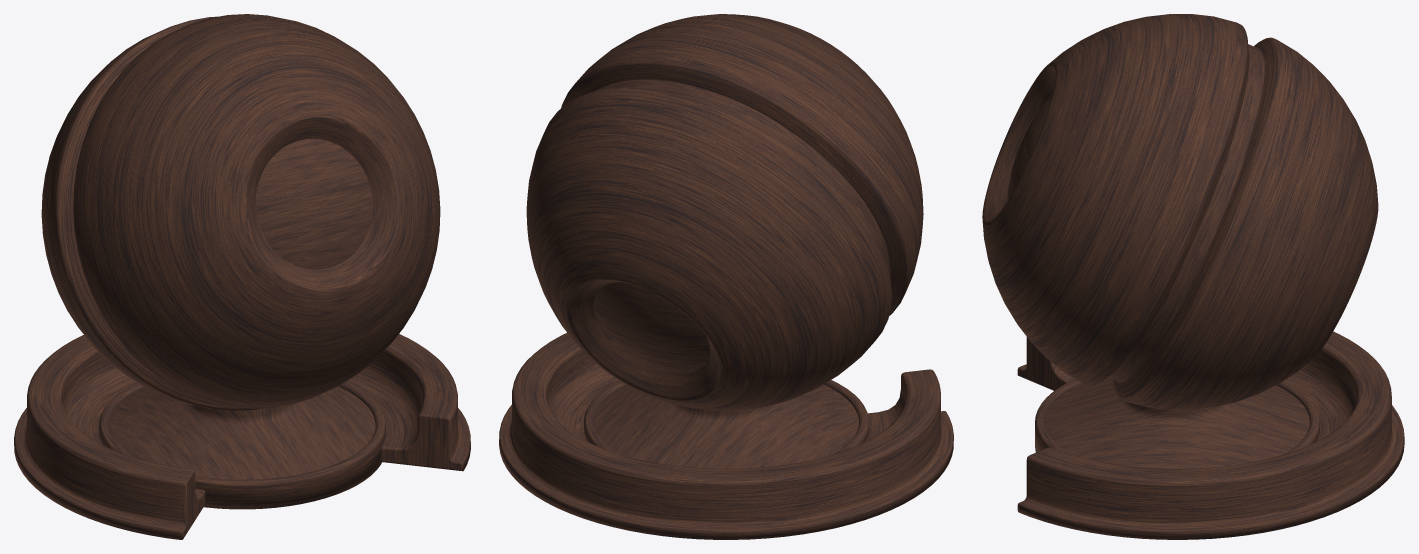
File: material_lacquered_wood.glb
The picture shows the model from 3 angles, left to right: view 1: azimuth 30°, elevation 25°; view 2: azimuth 150°, elevation 25°; view 3: azimuth 270°, elevation 25°; orthographic projection.
Visible parts, largest first — view 1: wood; view 2: wood; view 3: wood.
Boxes of the visible parts, bbox=[...] form: wood: bbox=[14, 14, 470, 539]; wood: bbox=[499, 14, 953, 539]; wood: bbox=[982, 14, 1404, 539].
Bounding box in the file's own units: 1.34 × 1.35 × 1.25.
1 material, 1 textured.
